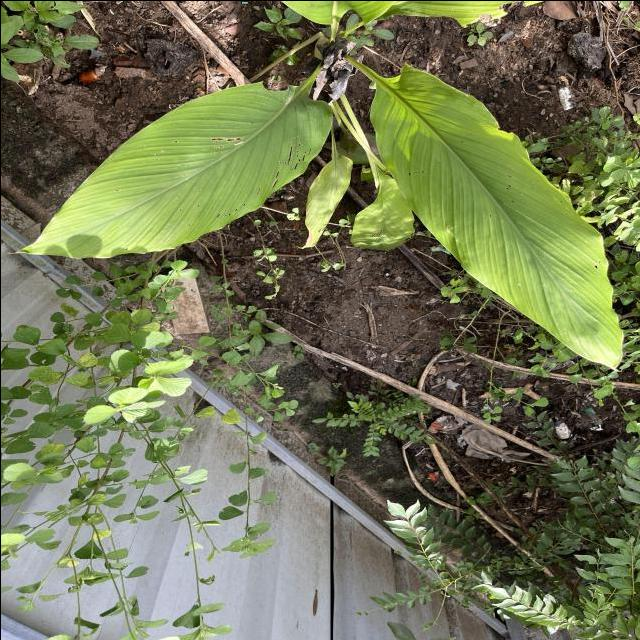Curcuma longa: (364, 60, 626, 372), (4, 78, 333, 260)
